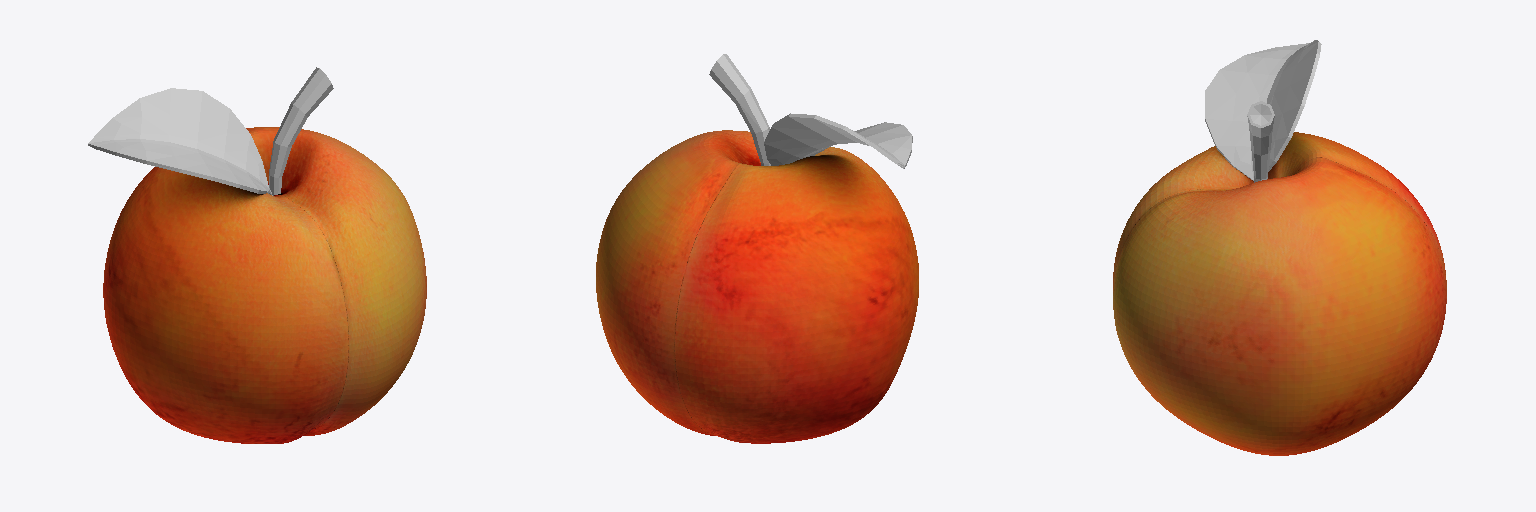
The picture shows the model from 3 angles: view 1: azimuth 30°, elevation 25°; view 2: azimuth 150°, elevation 25°; view 3: azimuth 270°, elevation 25°; orthographic projection.
Parts seen in each view (by area): view 1: peach_whole; view 2: peach_whole; view 3: peach_whole.
Part boxes in pixels (left/top/right/bottom): peach_whole: left=88, top=67, right=426, bottom=443; peach_whole: left=596, top=54, right=918, bottom=443; peach_whole: left=1113, top=40, right=1446, bottom=455.
Size of the model in its own units: 2.22 by 2.52 by 2.1.
Materials: 2 (1 with a texture image).